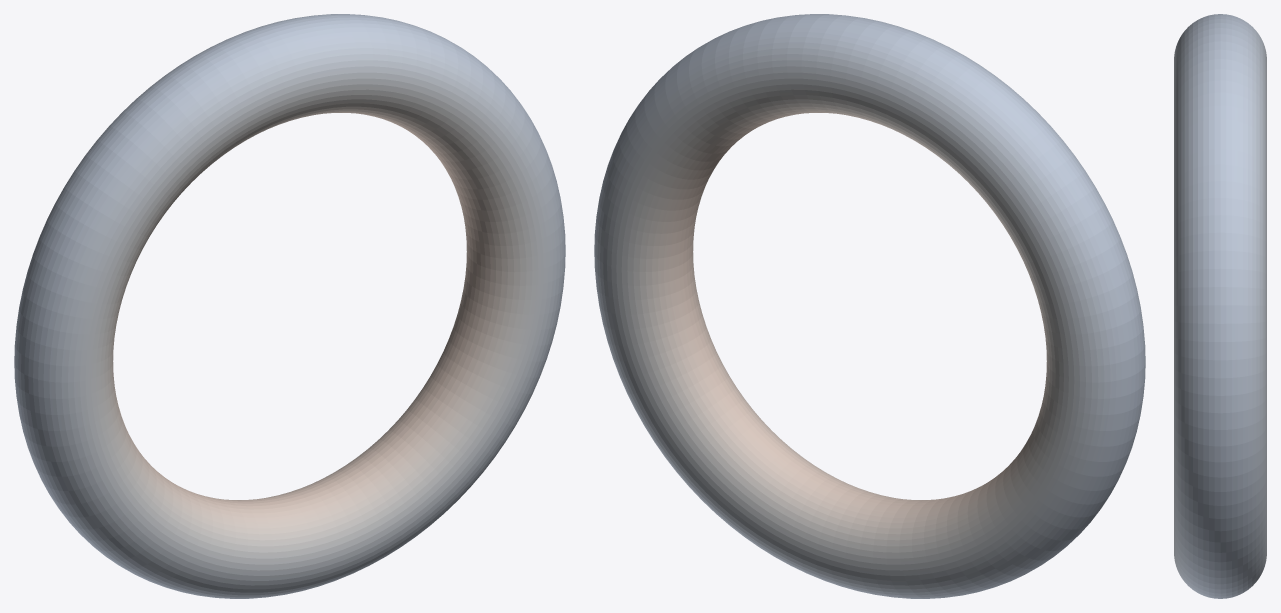
3 views of the same model, side by side, from view 1: azimuth 30°, elevation 25°; view 2: azimuth 150°, elevation 25°; view 3: azimuth 270°, elevation 25° (orthographic). The views are drawn at different scales.
Parts seen in each view (by area): view 1: world; view 2: world; view 3: world.
Boxes of the visible parts, bbox=[...] form: world: bbox=[14, 14, 565, 598]; world: bbox=[594, 14, 1145, 598]; world: bbox=[1174, 14, 1266, 598].
Bounding box in the file's own units: 29.33 × 29.33 × 4.66.
